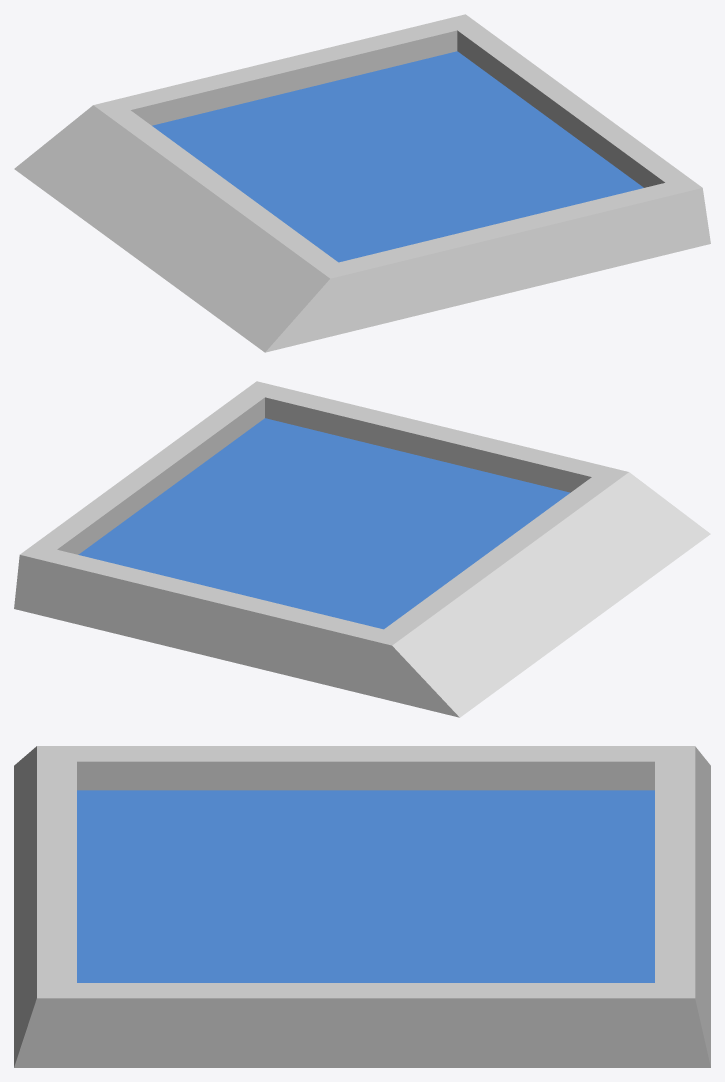
File: CubeLadderStance.fbx
The picture shows the model from 3 angles, top to bottom: view 1: azimuth 30°, elevation 25°; view 2: azimuth 150°, elevation 25°; view 3: azimuth 270°, elevation 25°; orthographic projection. The views are drawn at different scales.
Parts seen in each view (by area): view 1: CubeLadderStance; view 2: CubeLadderStance; view 3: CubeLadderStance.
Part boxes in pixels (bbox=[...]): CubeLadderStance: bbox=[14, 14, 710, 352]; CubeLadderStance: bbox=[14, 381, 710, 717]; CubeLadderStance: bbox=[14, 746, 710, 1067].
Size of the model in its own units: 625 by 67.09 by 610.
